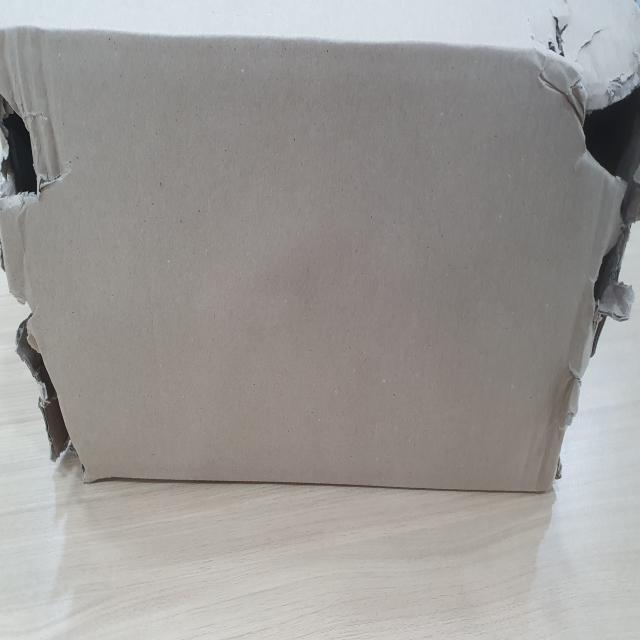hole: (565, 62, 640, 283), (13, 299, 88, 487), (4, 82, 60, 212)
